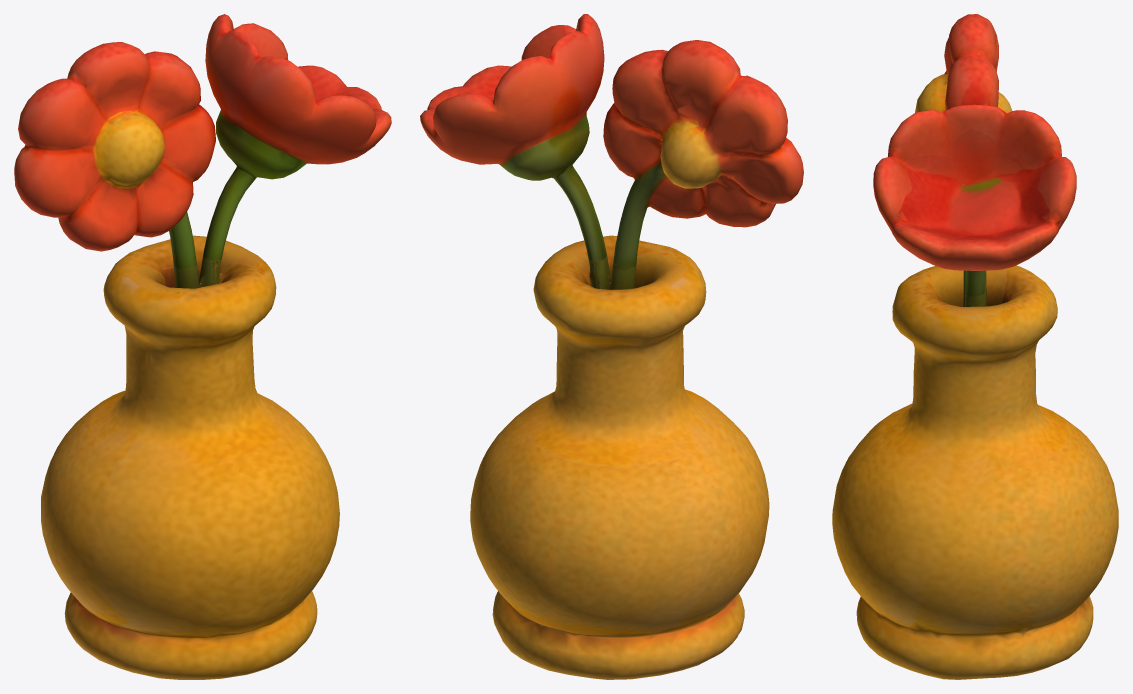
Rendered from BlossomVase.glb.
3 renders of one model, left to right at view 1: azimuth 30°, elevation 25°; view 2: azimuth 150°, elevation 25°; view 3: azimuth 270°, elevation 25°, orthographic. The views are drawn at different scales.
Bounding box in the file's own units: 1.17 × 1.91 × 0.8536.
1 material, 1 textured.
